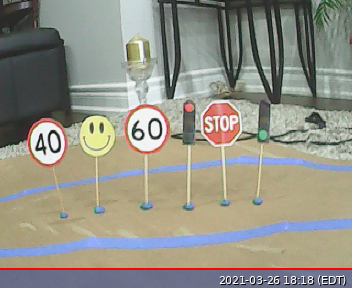Green Traffic Light: (256, 99, 271, 144)
Person: (78, 115, 115, 156)
Red Traffic Light: (180, 99, 197, 146)
Speed Limit 40: (27, 117, 68, 167)
Speed Limit 60: (124, 105, 170, 154)
Stop Sign: (200, 99, 243, 147)
